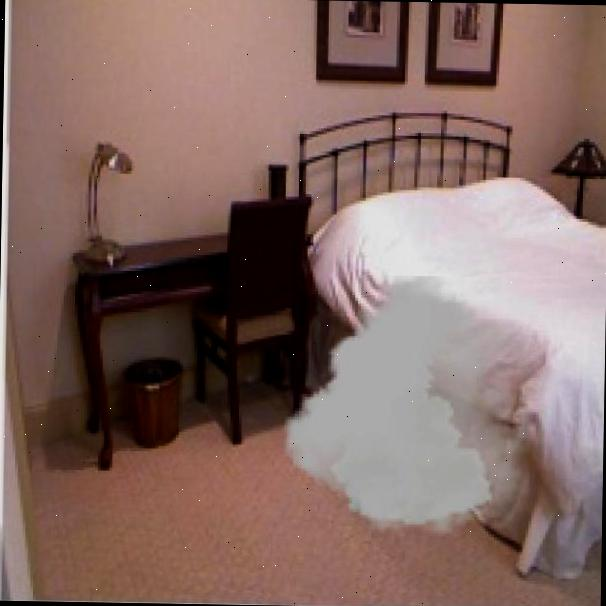smoke: (283, 274, 532, 538)
